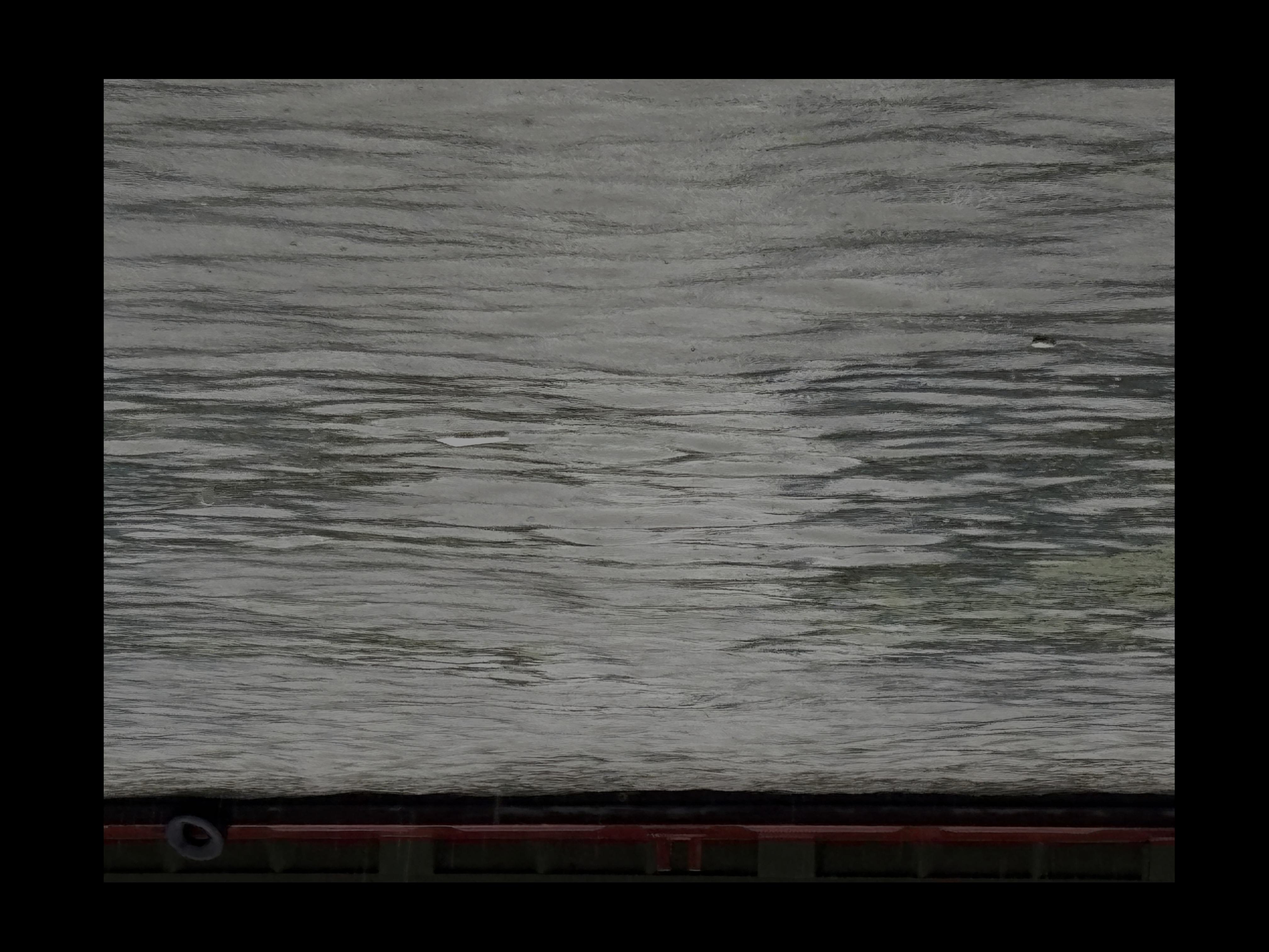Plastic wastes: (439, 428, 506, 456), (1029, 331, 1060, 357)
